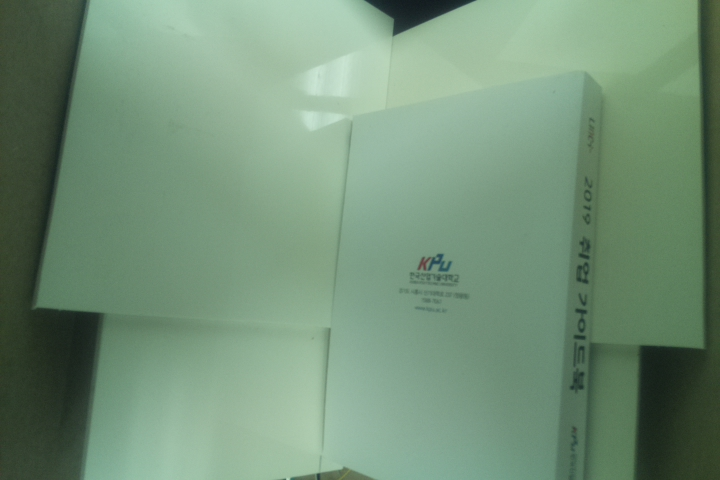book: (318, 68, 610, 480)
